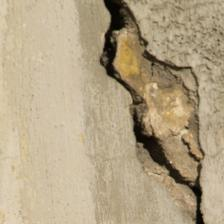Crack: (58, 50, 152, 162), (15, 2, 197, 46)
